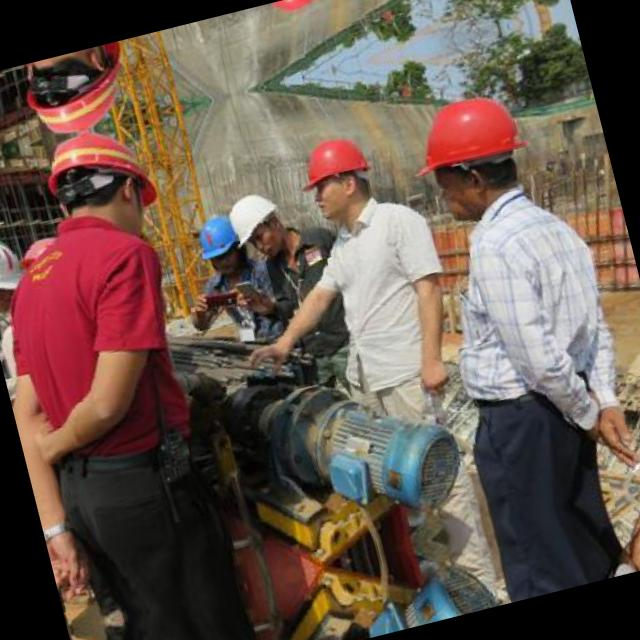helmet: (402, 86, 542, 226), (38, 119, 169, 258), (17, 40, 141, 144), (287, 127, 383, 232), (225, 188, 292, 264), (190, 212, 248, 281), (0, 223, 30, 316), (252, 0, 333, 25)
